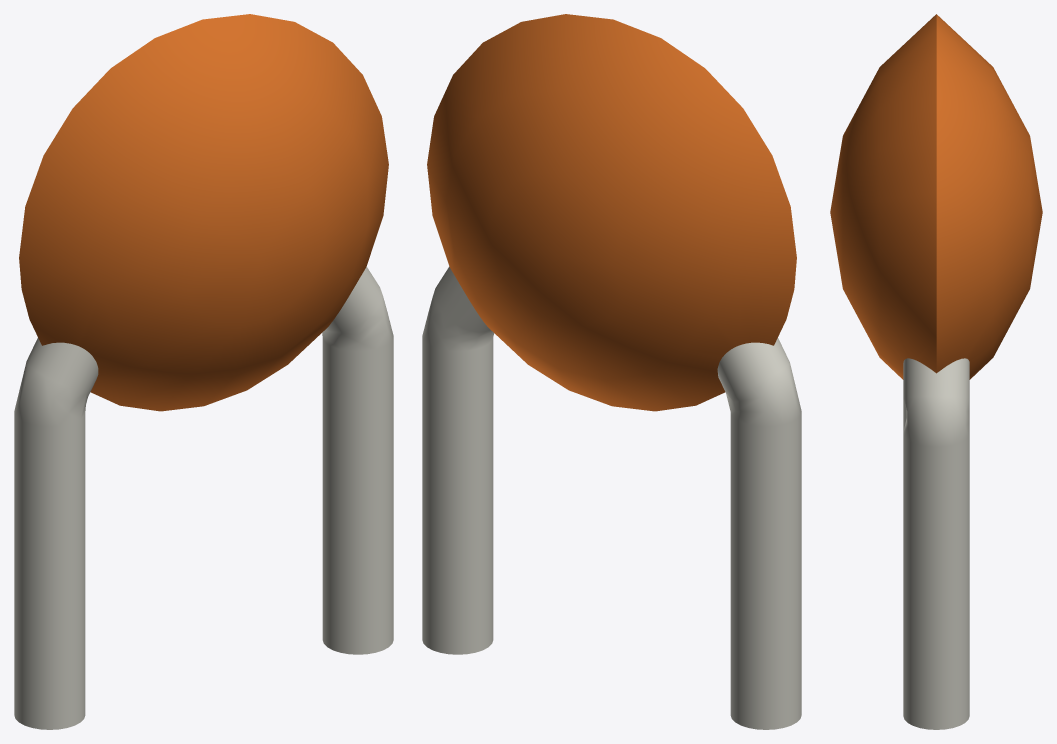
File: Capacitor_THT__C_Disc_D3.0mm_W1.6mm_P2.50mm.glb
3 views of the same model, side by side, from view 1: azimuth 30°, elevation 25°; view 2: azimuth 150°, elevation 25°; view 3: azimuth 270°, elevation 25° (orthographic). The views are drawn at different scales.
Parts seen in each view (by area): view 1: C_Disc_D30mm_W16mm_P250mm; view 2: C_Disc_D30mm_W16mm_P250mm; view 3: C_Disc_D30mm_W16mm_P250mm.
Part boxes in pixels (x1=…): C_Disc_D30mm_W16mm_P250mm: x1=14, y1=14, x2=393, y2=729; C_Disc_D30mm_W16mm_P250mm: x1=422, y1=14, x2=801, y2=729; C_Disc_D30mm_W16mm_P250mm: x1=830, y1=14, x2=1042, y2=729.
Bounding box in the file's own units: 0.003 × 0.0051 × 0.0016.
